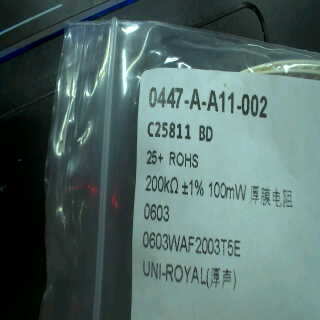200kR: (144, 173, 181, 194)
